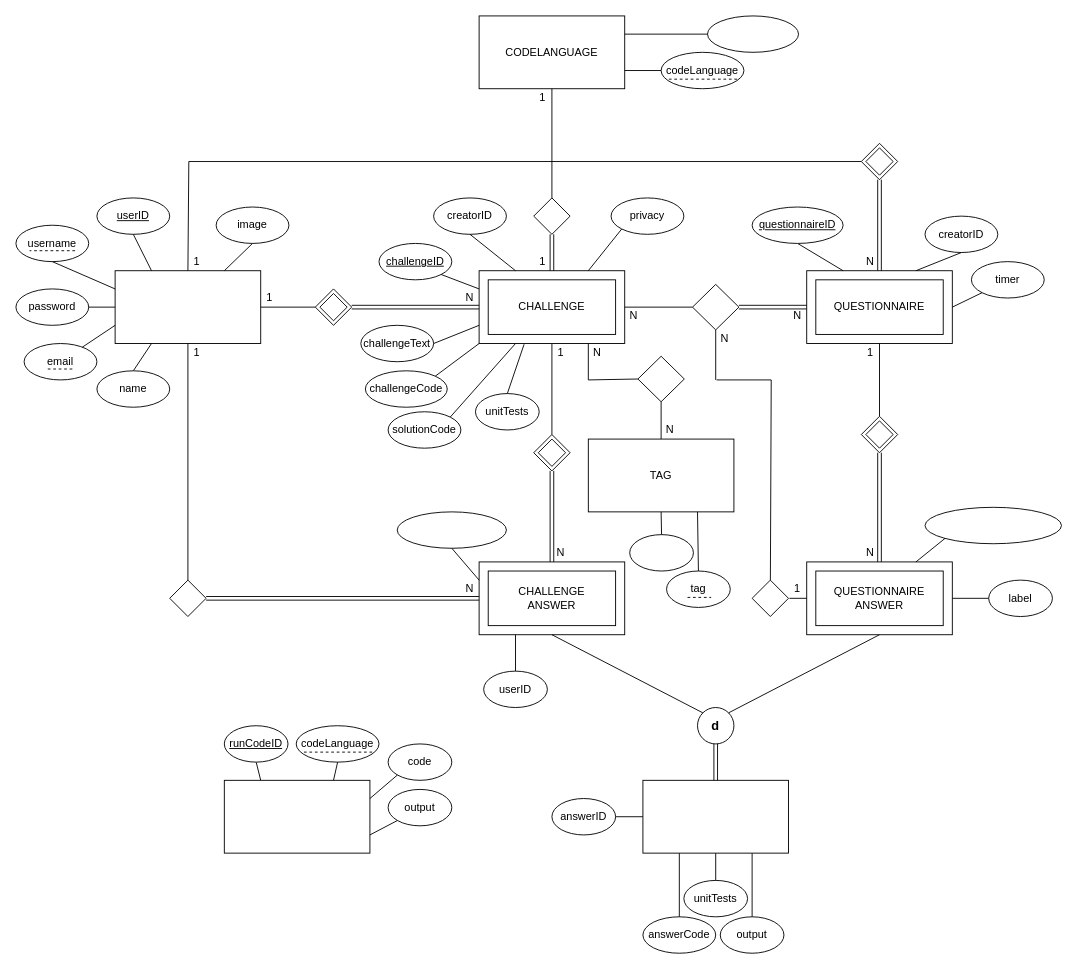
This 1077x969 diagram has some shape labels left out. The centre of each missing label's shape, as x and y in pixels:
"ANSWER" belongs at (715,816).
"challengeAnswerID" belongs at (451,529).
"codeLanguageID" belongs at (753,33).
"CT" belongs at (660,378).
"QC" belongs at (715,306).
"questionnaireAnswerID" belongs at (993,525).
"RUNCODE" belongs at (296,816).
"tagID" belongs at (661,552).
"USERS" belongs at (187,307).
